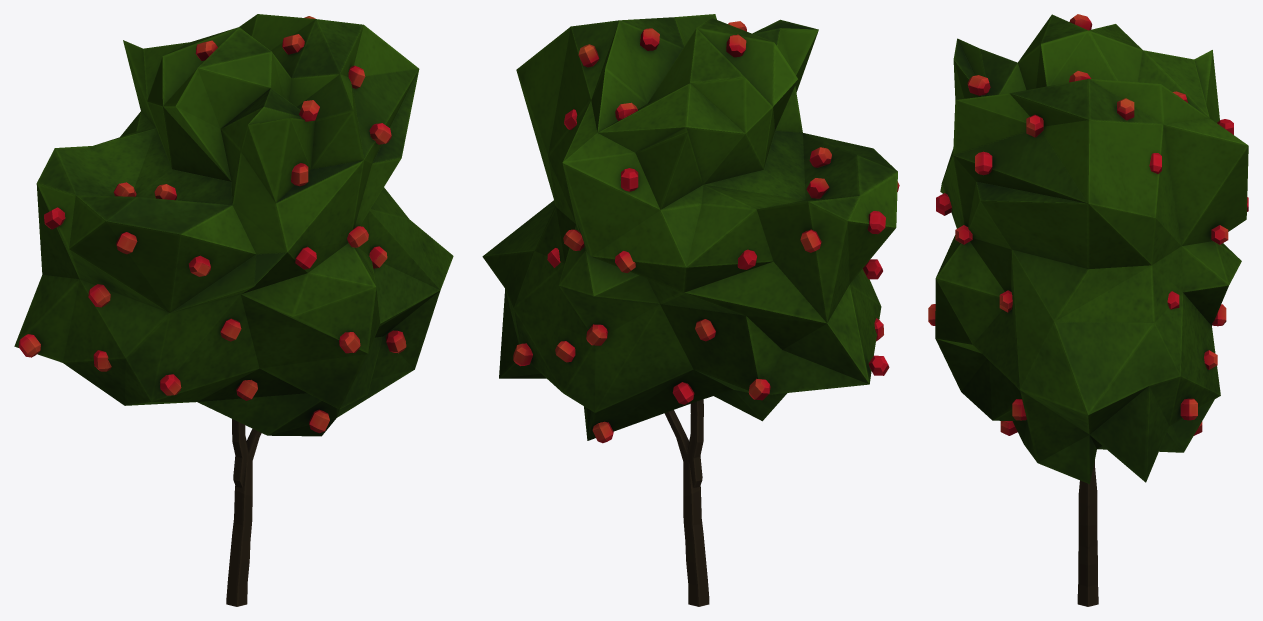
Rendered from citrus.gltf.
3 views of the same model, side by side, from view 1: azimuth 30°, elevation 25°; view 2: azimuth 150°, elevation 25°; view 3: azimuth 270°, elevation 25° (orthographic).
Parts seen in each view (by area): view 1: node-0; view 2: node-0; view 3: node-0.
Boxes of the visible parts, bbox=[...] form: node-0: bbox=[14, 14, 453, 606]; node-0: bbox=[482, 14, 899, 606]; node-0: bbox=[928, 14, 1248, 606].
Size of the model in its own units: 10.83 by 14.15 by 7.18.
Materials: 1 (1 with a texture image).
